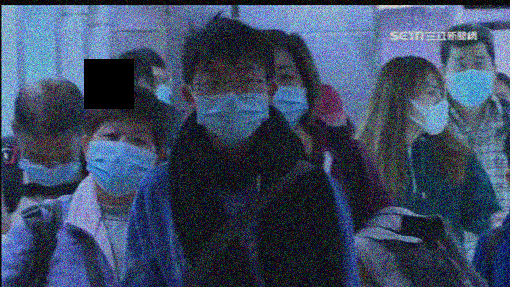with_mask: (189, 65, 268, 144), (86, 122, 159, 194), (443, 50, 495, 105), (17, 145, 82, 188), (271, 58, 309, 130), (409, 82, 450, 138)
